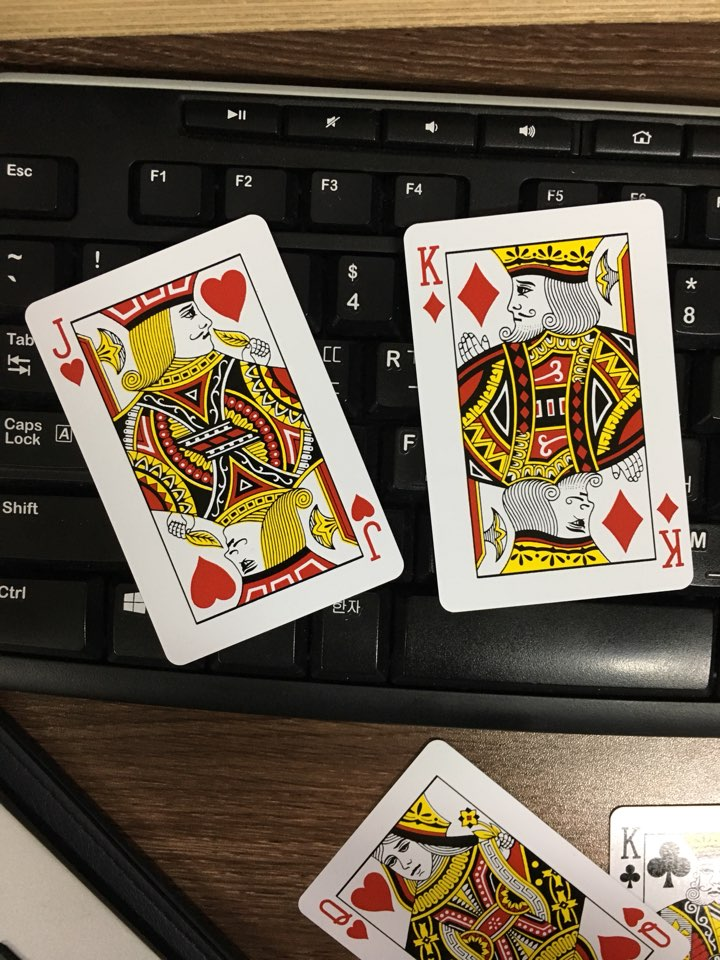jack: (12, 198, 433, 688)
king: (384, 170, 711, 636), (583, 779, 719, 960)
queen: (279, 725, 706, 960)
